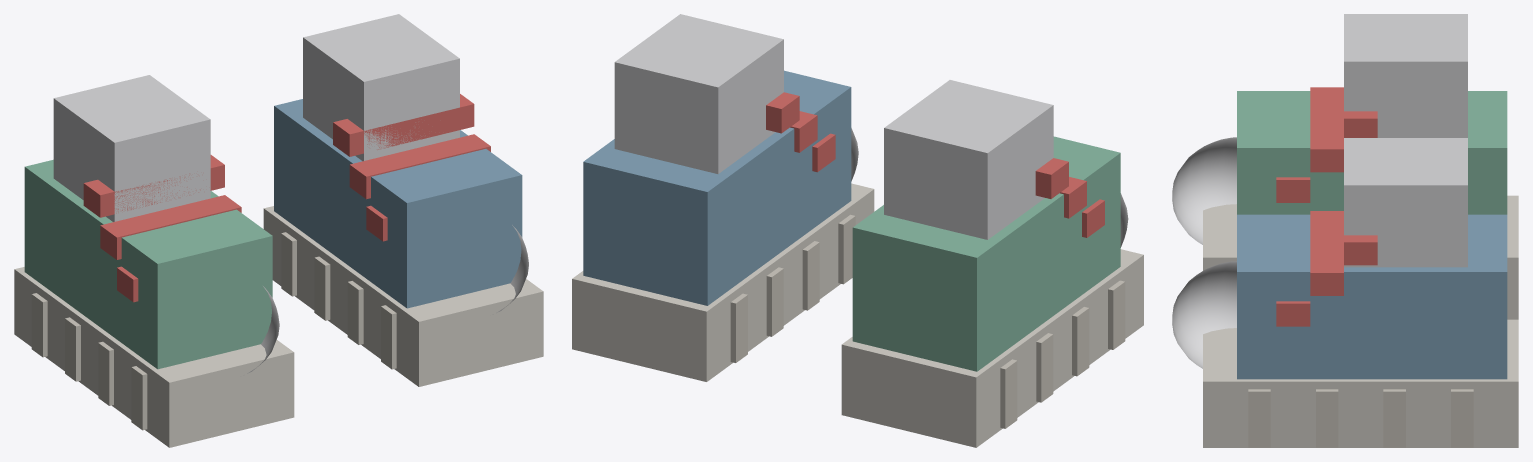
File: 05_super_sneakers.glb
3 renders of one model, left to right at view 1: azimuth 30°, elevation 25°; view 2: azimuth 150°, elevation 25°; view 3: azimuth 270°, elevation 25°, orthographic. The views are drawn at different scales.
Visible parts, largest first — view 1: SuperSneakers; view 2: SuperSneakers; view 3: SuperSneakers.
Boxes of the visible parts, x1,y1,x2,y2 form: SuperSneakers: [14, 14, 543, 447]; SuperSneakers: [572, 14, 1143, 447]; SuperSneakers: [1172, 14, 1518, 447].
Bounding box in the file's own units: 0.8 × 0.5 × 0.6147.
